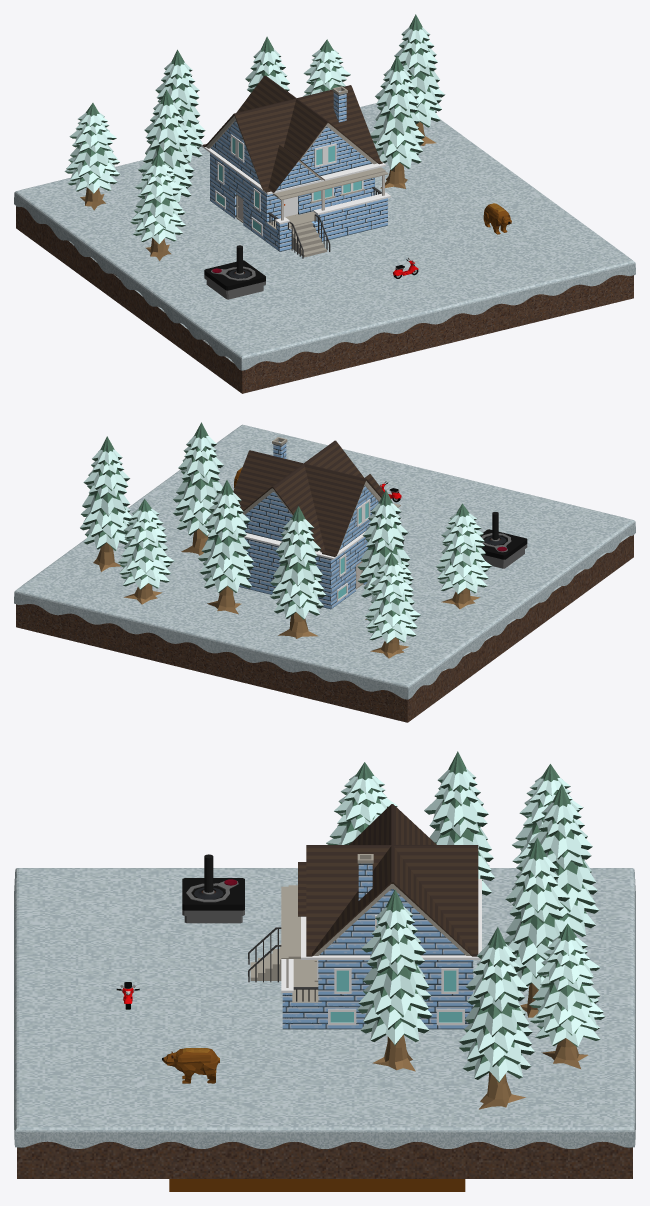
The picture shows the model from 3 angles, top to bottom: view 1: azimuth 30°, elevation 25°; view 2: azimuth 150°, elevation 25°; view 3: azimuth 270°, elevation 25°; orthographic projection. The views are drawn at different scales.
Parts seen in each view (by area): view 1: Cube.003, Cube.547, OBJRANDOM_JOYSTICK, ANIMAL_OSO; view 2: Cube.003, Cube.547, OBJRANDOM_JOYSTICK; view 3: Cube.003, Cube.547, UNDERGROUND_ART_PIECE_VAN_GOGH, OBJRANDOM_JOYSTICK, ANIMAL_OSO.
Boxes of the visible parts, bbox=[...] form: Cube.003: bbox=[14, 14, 635, 393]; Cube.547: bbox=[201, 75, 390, 258]; OBJRANDOM_JOYSTICK: bbox=[204, 245, 265, 299]; ANIMAL_OSO: bbox=[483, 203, 511, 234]; Cube.003: bbox=[14, 422, 635, 722]; Cube.547: bbox=[233, 437, 403, 609]; OBJRANDOM_JOYSTICK: bbox=[481, 512, 527, 568]; Cube.003: bbox=[14, 751, 635, 1178]; Cube.547: bbox=[248, 804, 481, 1029]; UNDERGROUND_ART_PIECE_VAN_GOGH: bbox=[169, 1179, 465, 1191]; OBJRANDOM_JOYSTICK: bbox=[182, 854, 244, 923]; ANIMAL_OSO: bbox=[162, 1048, 219, 1083].
Size of the model in its own units: 4040 by 1818 by 4040.
34 materials, 5 textured.
